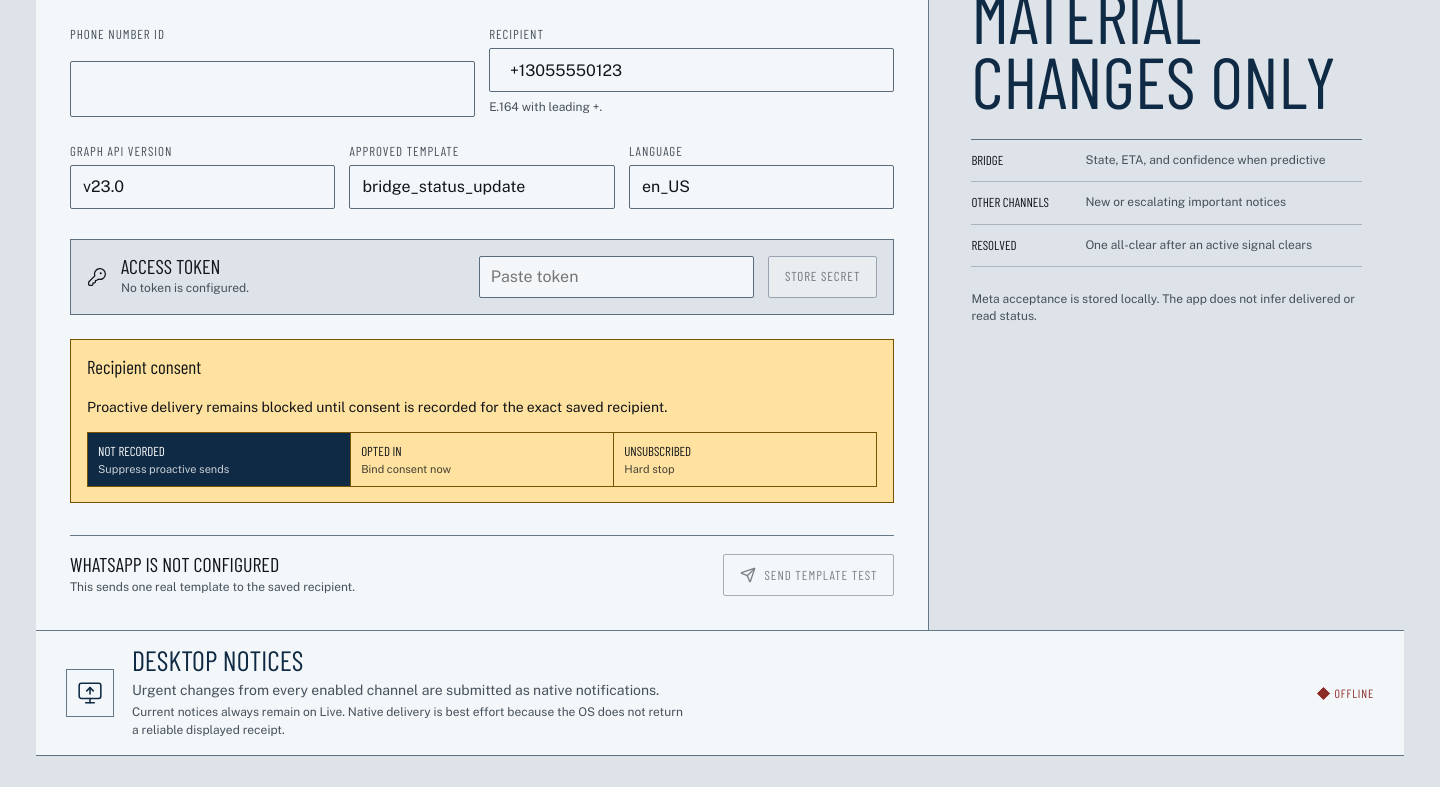
Scenario: WhatsApp recipient consent › binds opt-in to the trimmed current recipient with a capture time
(page scrolled)
Click the radio button labelled "Opted in Bind consent now".
click(381, 451)  # box [351, 432, 614, 487]
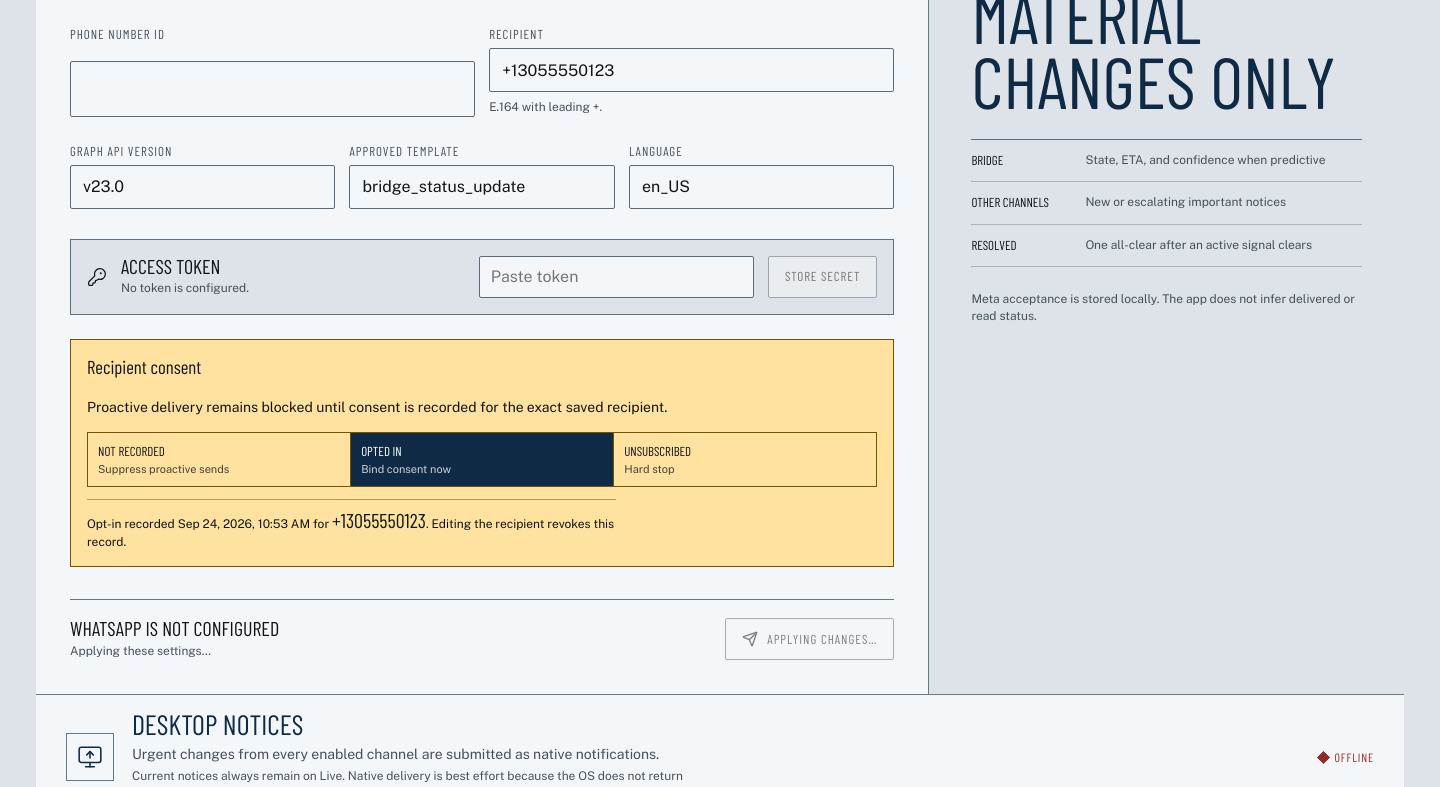
Expected: the field labelled "Recipient E.164 with leading +." holds "+13055550123", [489, 48, 894, 92]
Expected: the text "Editing the recipient revokes this record" is shown, [87, 517, 614, 549]
